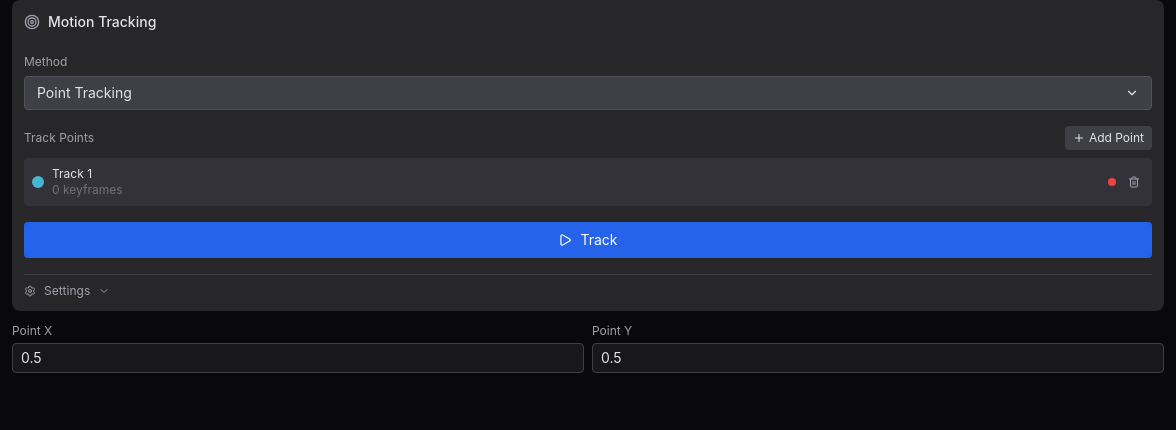
PointTrackingPanel › error display › should show error message when tracking fails
The image size is (1176, 430).
Click the button "Track". click: {"x": 588, "y": 240}
box: x1=24 y1=222 x2=1152 y2=258
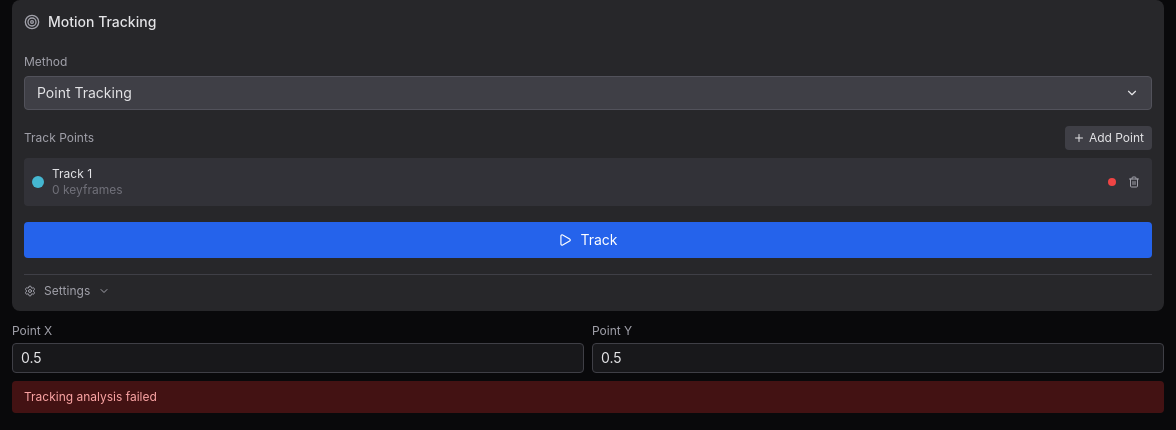
Now the text "Tracking analysis failed" is shown, box x1=12 y1=381 x2=1164 y2=413
